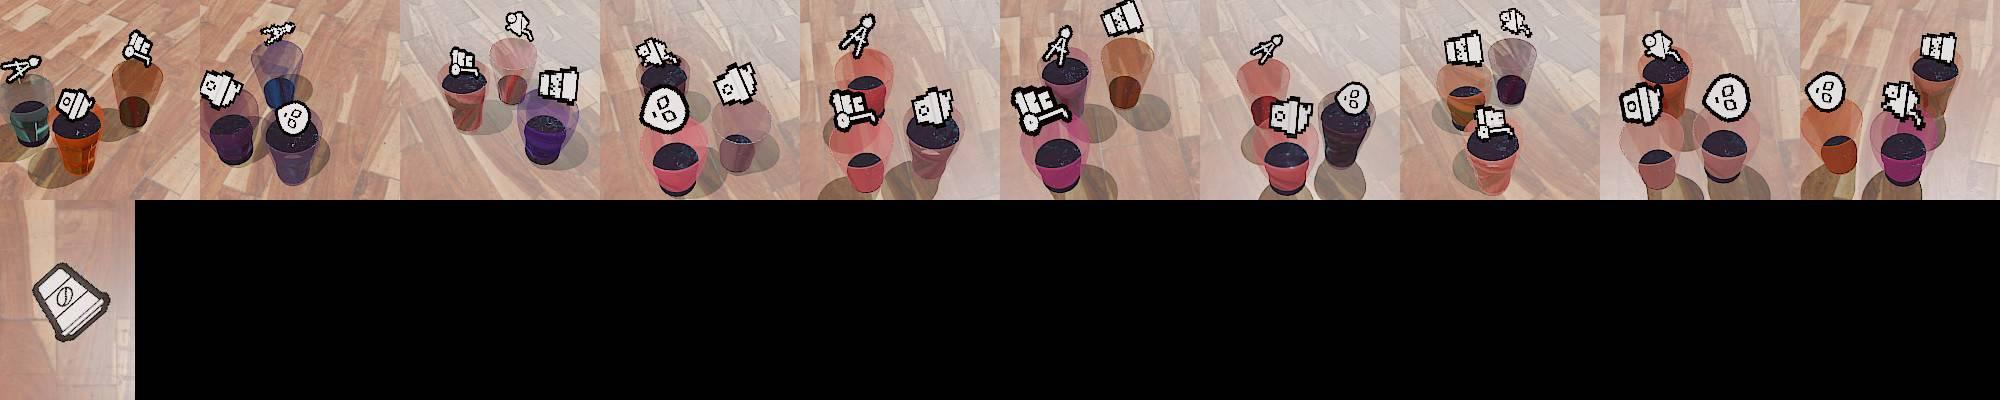icon: (33, 261, 114, 343), (1011, 85, 1066, 135), (639, 85, 690, 135), (829, 84, 880, 132), (1703, 73, 1751, 122), (713, 61, 760, 107), (1268, 94, 1316, 138), (1619, 83, 1665, 126), (909, 85, 957, 127), (1881, 79, 1925, 124), (1098, 0, 1147, 39), (199, 68, 244, 110), (1805, 71, 1847, 115), (537, 65, 580, 106), (838, 13, 876, 59), (1444, 28, 1486, 66), (56, 87, 97, 122), (634, 36, 676, 70), (1042, 24, 1074, 66), (276, 101, 311, 136), (1473, 103, 1510, 138), (0, 55, 43, 84), (1918, 32, 1957, 65), (1337, 80, 1371, 116), (1249, 32, 1284, 66), (121, 29, 154, 65), (1497, 6, 1533, 38), (1643, 29, 1676, 61), (260, 19, 296, 45), (448, 46, 478, 75), (505, 10, 533, 41)
